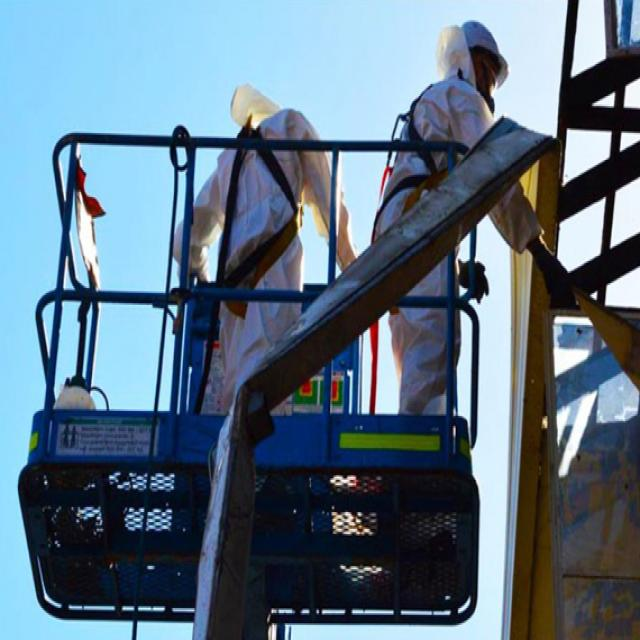gloves: (459, 254, 490, 306)
helmet: (444, 14, 510, 94)
